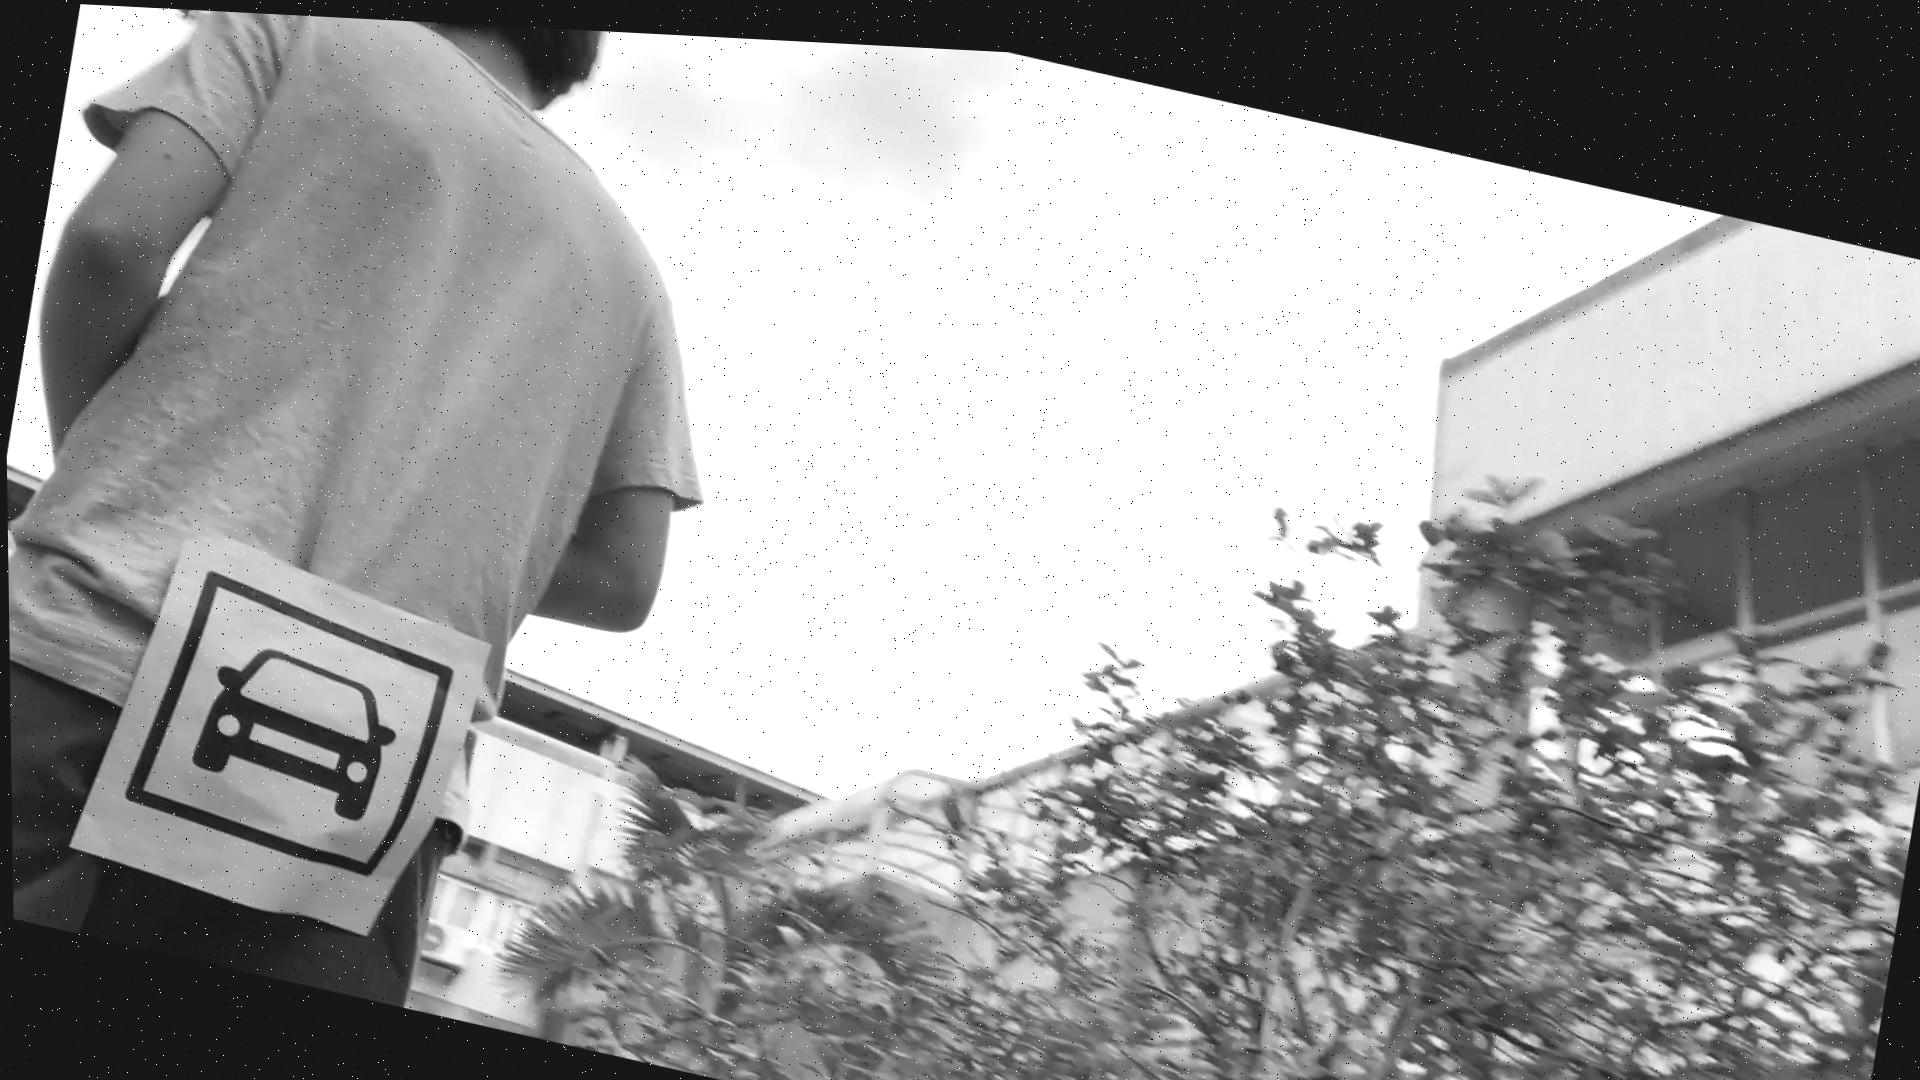car_img: (115, 556, 463, 887)
